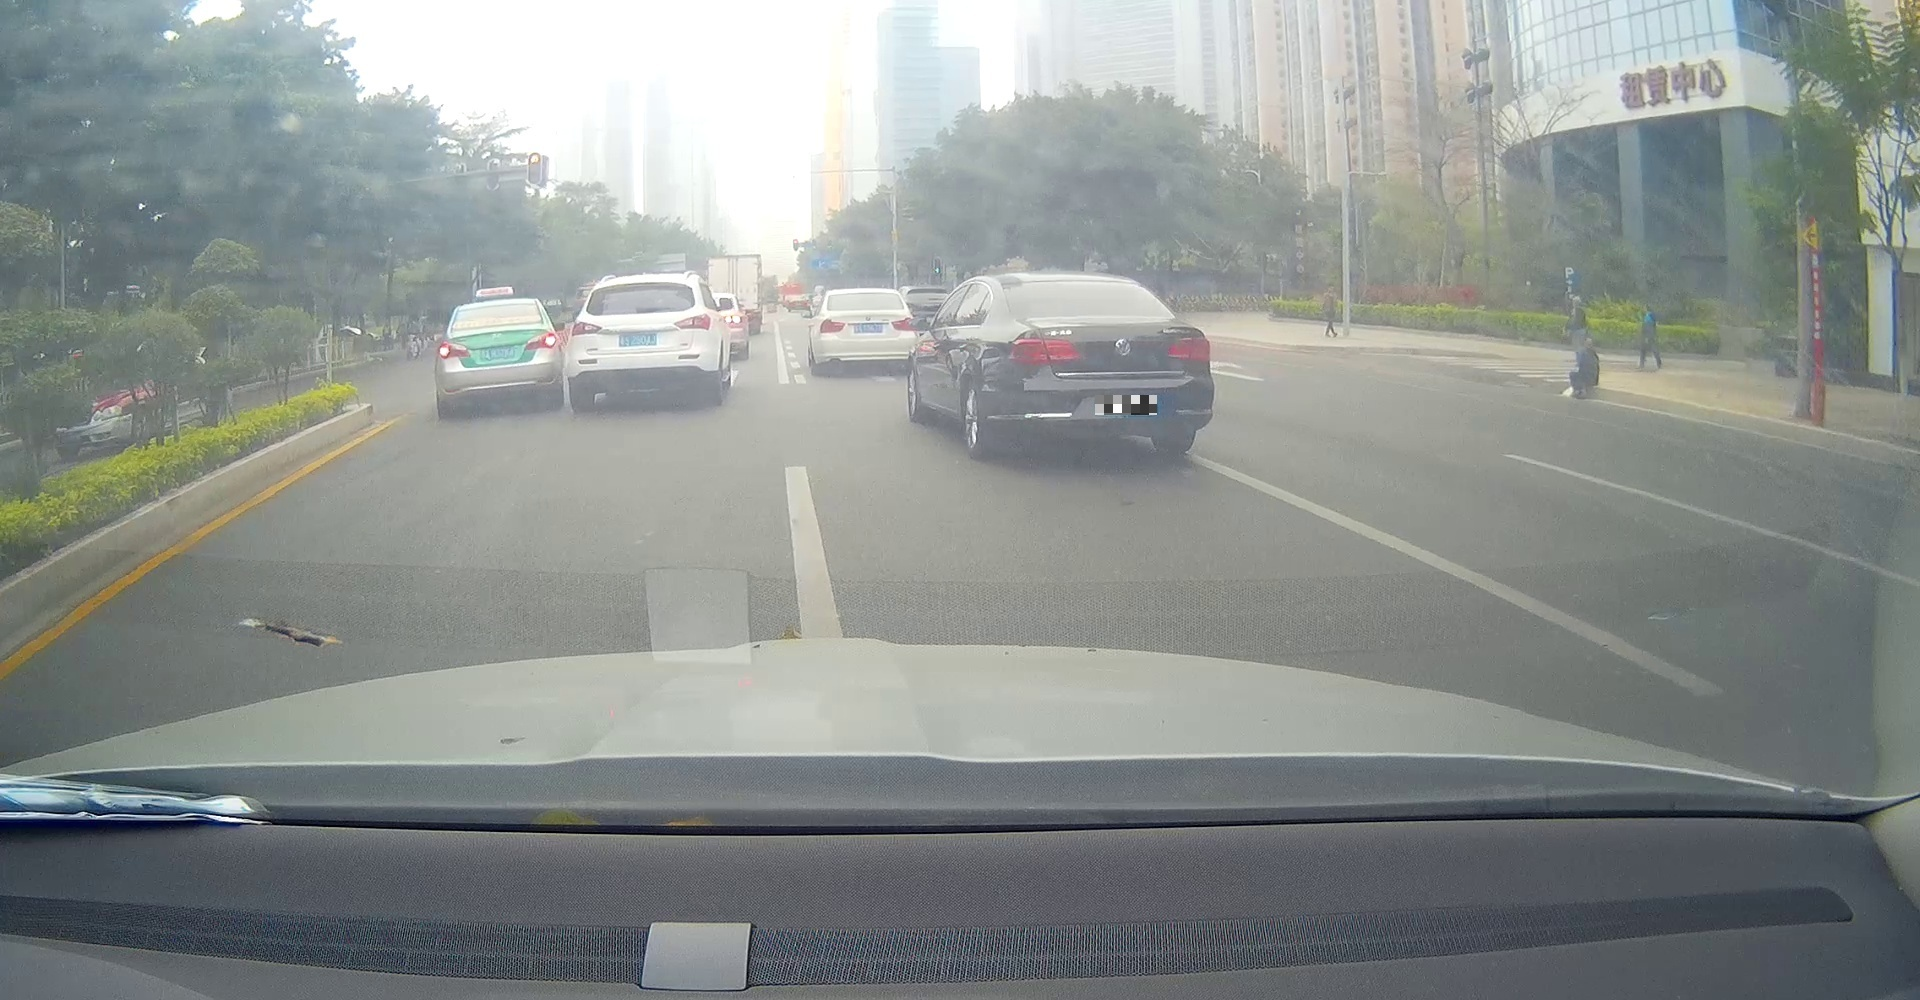L_light: (1008, 339, 1078, 362), (437, 341, 471, 360), (571, 321, 602, 338), (819, 320, 846, 334)
R_light: (1166, 338, 1210, 359), (673, 313, 711, 331), (523, 332, 557, 350), (891, 319, 916, 332)
T_light: (1060, 280, 1086, 288), (632, 283, 655, 288), (855, 292, 872, 298), (486, 306, 505, 311)
day-brake: (434, 298, 561, 418)
day-no: (1001, 272, 1214, 458), (565, 272, 717, 412), (814, 288, 919, 376)
plate_1: (1095, 395, 1157, 415)
